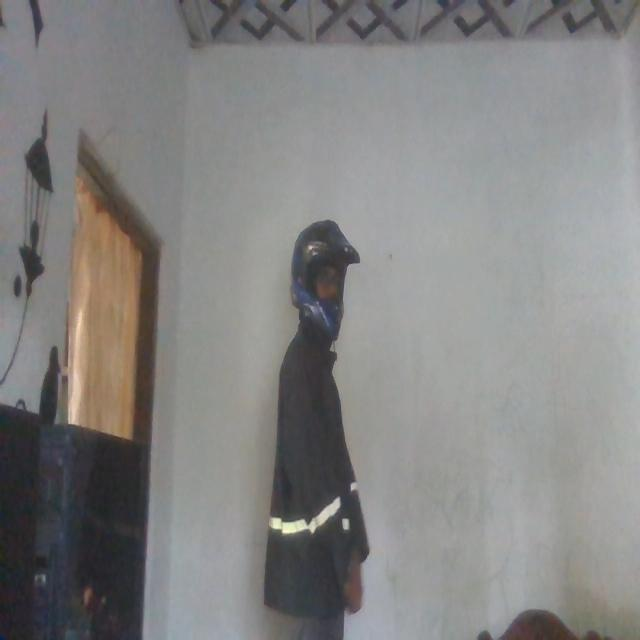Helmet_Wearer: (288, 213, 358, 351)
Jacket_Wearer: (269, 328, 367, 626)
Person: (261, 204, 372, 631)
